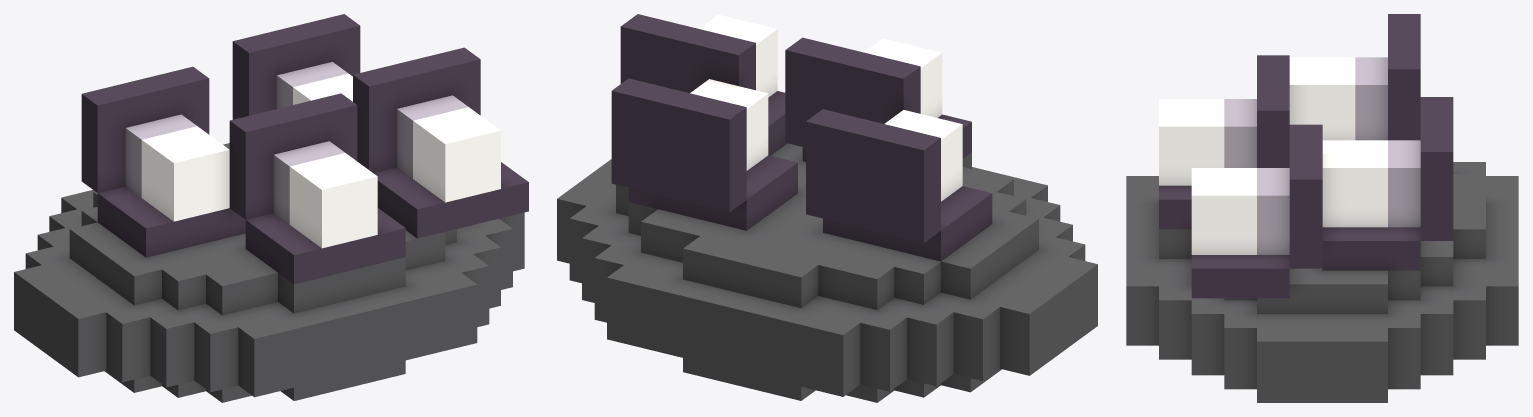
File: r_pearls.glb
The picture shows the model from 3 angles, left to right: view 1: azimuth 30°, elevation 25°; view 2: azimuth 150°, elevation 25°; view 3: azimuth 270°, elevation 25°; orthographic projection. The views are drawn at different scales.
Visible parts, largest first — view 1: r_pearls_body; view 2: r_pearls_body; view 3: r_pearls_body.
Part boxes in pixels (<box>): r_pearls_body: <box>14,14,528,402</box>; r_pearls_body: <box>557,14,1097,402</box>; r_pearls_body: <box>1126,14,1518,402</box>.
Bounding box in the file's own units: 1 × 0.5 × 0.75.
Materials: 1 (1 with a texture image).
